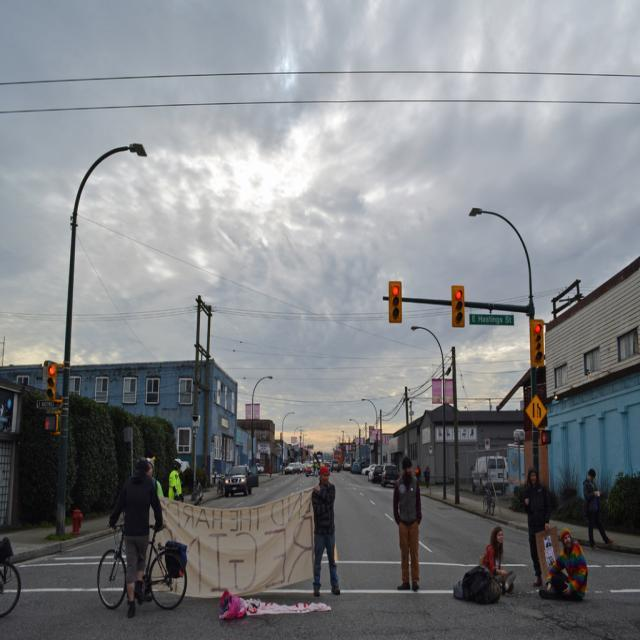traffic light: (529, 321, 546, 365), (389, 280, 403, 323), (451, 286, 463, 325), (46, 365, 57, 395)
